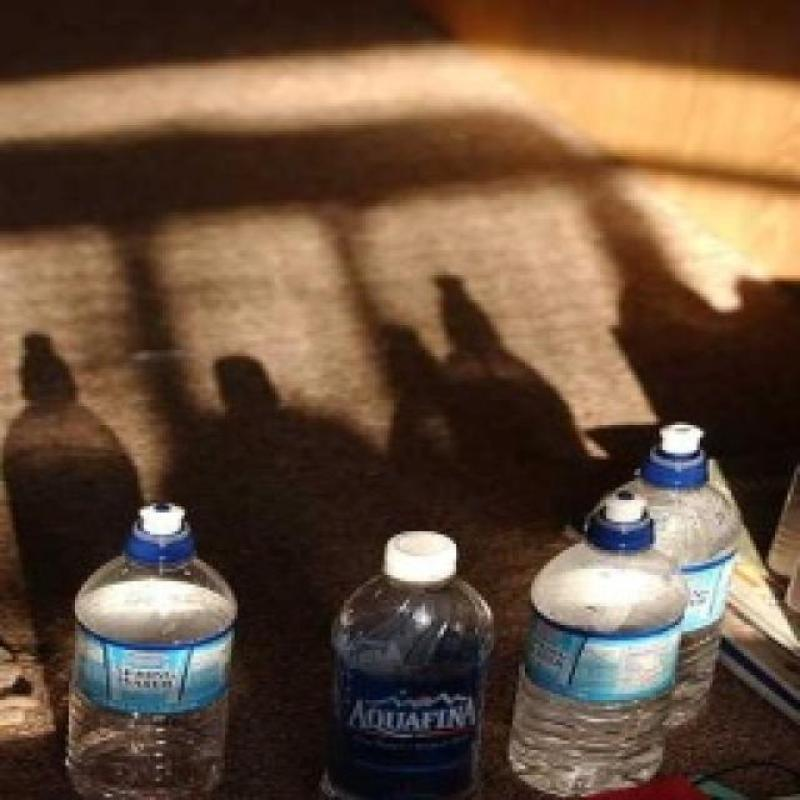botella: (508, 490, 682, 800), (62, 496, 237, 800), (331, 534, 490, 800), (603, 423, 728, 742)
